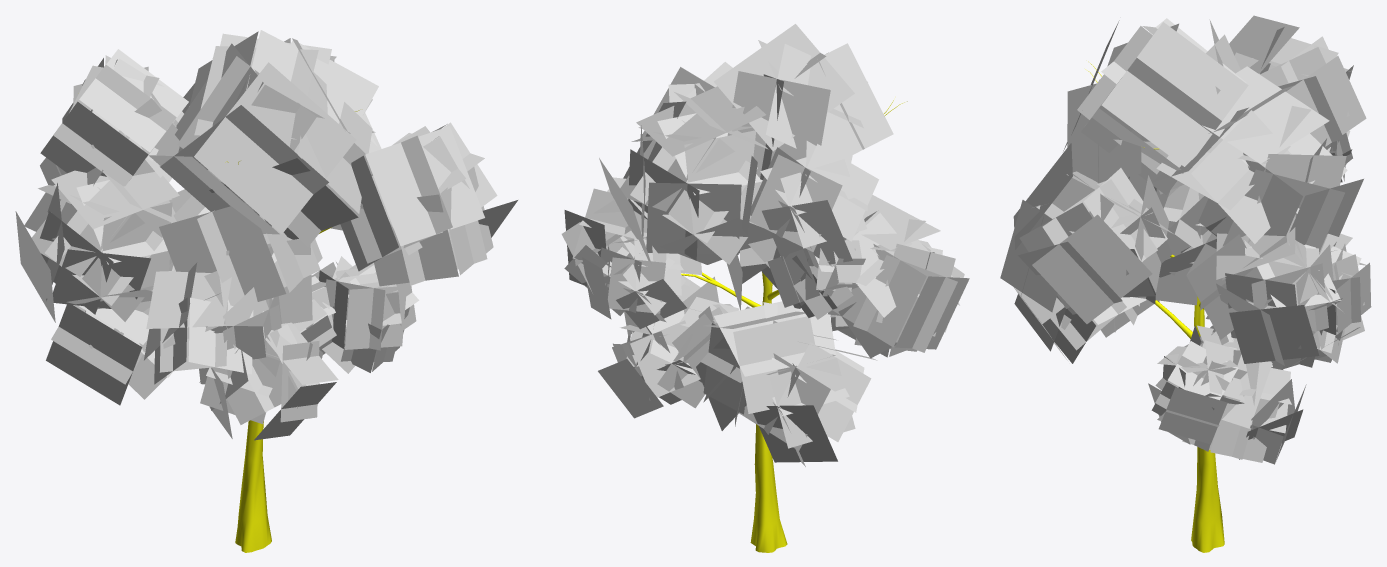
File: Foliage_Trees_Tree_3_Oak_OakTree2_High.glb
3 views of the same model, side by side, from view 1: azimuth 30°, elevation 25°; view 2: azimuth 150°, elevation 25°; view 3: azimuth 270°, elevation 25° (orthographic). The views are drawn at different scales.
Parts seen in each view (by area): view 1: tree2OakHigh.001; view 2: tree2OakHigh.001; view 3: tree2OakHigh.001.
Part boxes in pixels (x1,y1,x2,y2): tree2OakHigh.001: [15, 30, 517, 552]; tree2OakHigh.001: [561, 24, 969, 552]; tree2OakHigh.001: [1000, 15, 1371, 552].
Size of the model in its own units: 3.79 by 4.88 by 3.11.
Materials: 2 (1 with a texture image).
